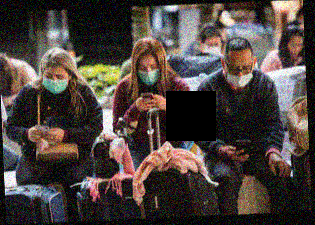with_mask: (223, 63, 253, 90), (40, 70, 68, 94), (135, 61, 159, 87), (201, 40, 222, 55)
without_mask: (286, 39, 302, 59)
